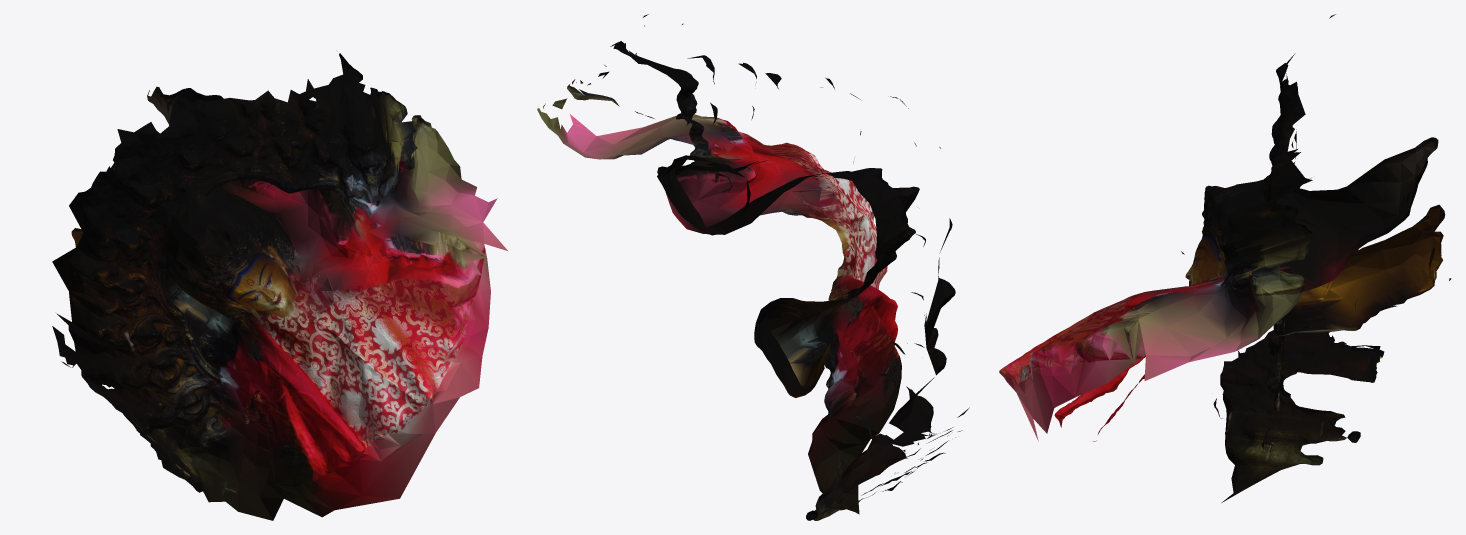
File: PadhmaniTara.glb
3 views of the same model, side by side, from view 1: azimuth 30°, elevation 25°; view 2: azimuth 150°, elevation 25°; view 3: azimuth 270°, elevation 25° (orthographic). The views are drawn at different scales.
Size of the model in its own units: 0.7212 by 0.7392 by 0.6588.
11 materials, 11 textured.
